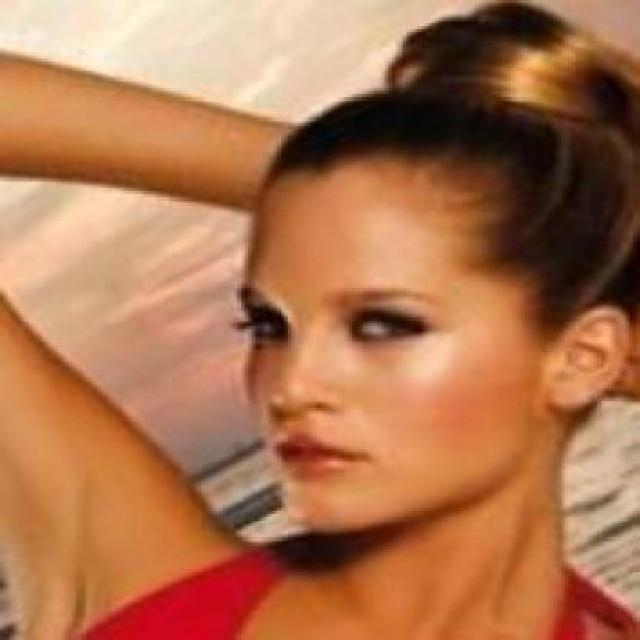closed-mouth: (268, 428, 374, 481)
